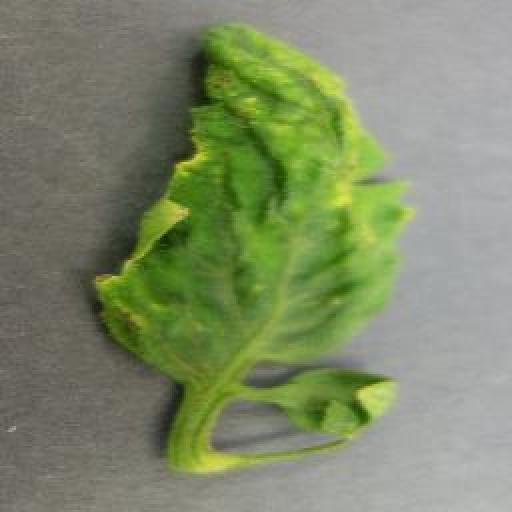disease_tomato: (91, 21, 418, 383)
